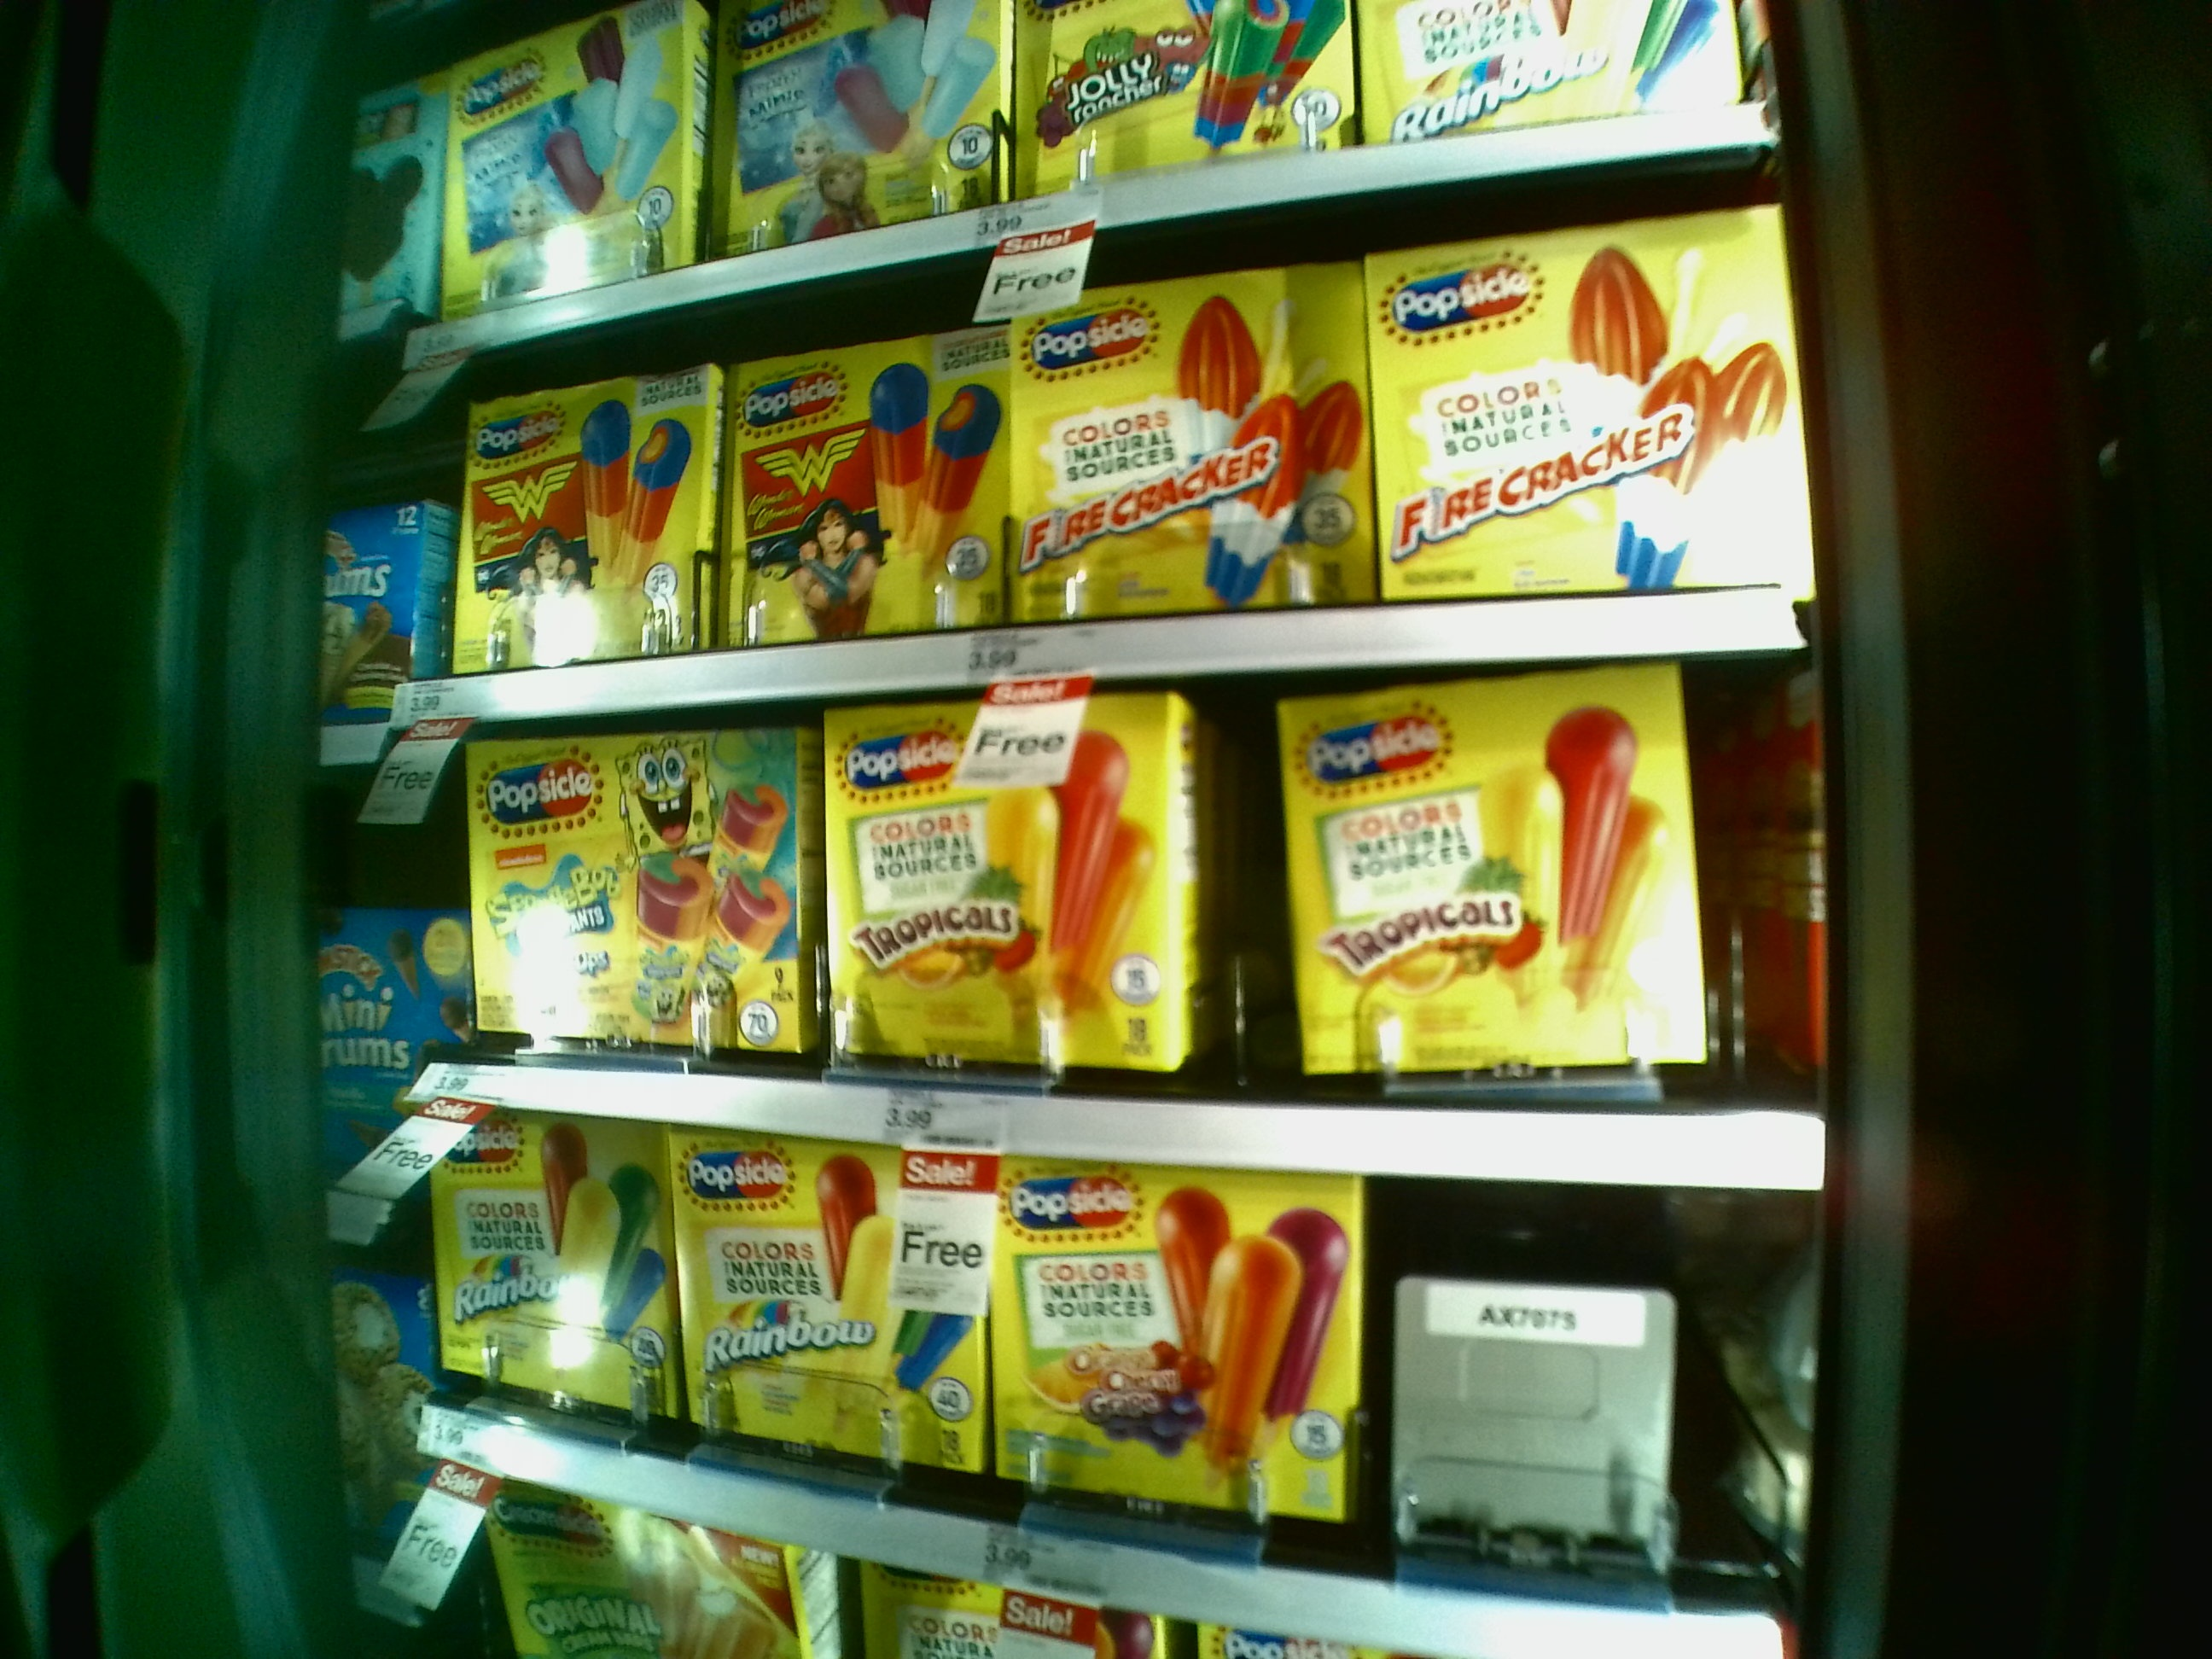shelf: (428, 1101, 1768, 1652), (428, 692, 1829, 1161), (441, 228, 1804, 673)
